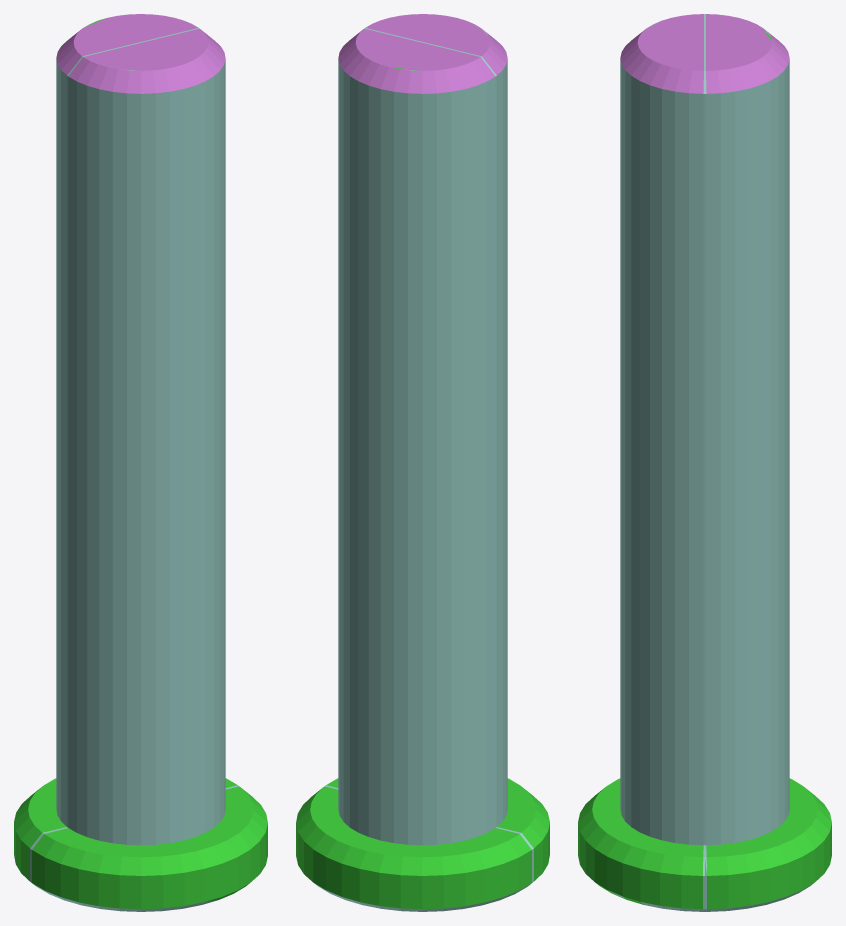
Rendered from Pin_.dae.
3 renders of one model, left to right at view 1: azimuth 30°, elevation 25°; view 2: azimuth 150°, elevation 25°; view 3: azimuth 270°, elevation 25°, orthographic.
Parts seen in each view (by area): view 1: Pin; view 2: Pin; view 3: Pin.
Part boxes in pixels (x1=…): Pin: x1=14, y1=14, x2=267, y2=911; Pin: x1=296, y1=14, x2=549, y2=911; Pin: x1=578, y1=14, x2=831, y2=911.
Bounding box in the file's own units: 0.009 × 0.009 × 0.032.
